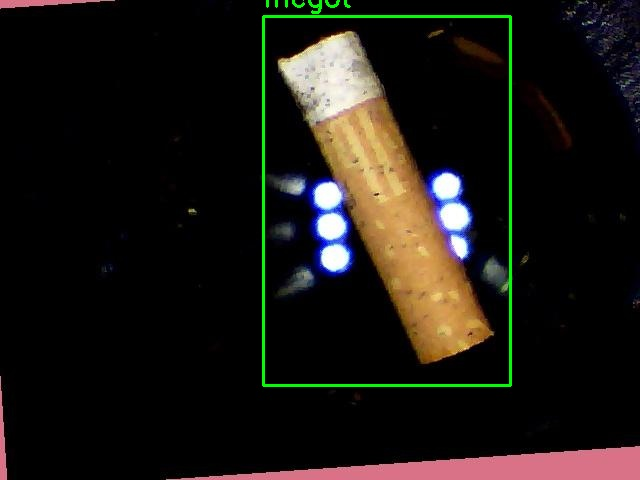megot: (263, 16, 510, 385)
